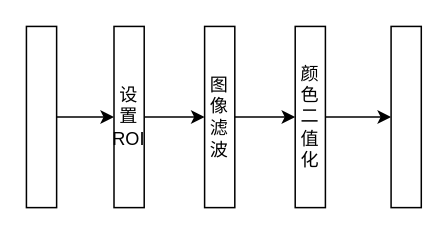
Some shapes in this 448 by 234 pixel diagram are drawn without their labels. The shapes that lost their labels are listed below. From the top down, each one's centre as x and y in pixels, then its label:
[41,116]: 原始图像
[405,116]: 形态学处理
